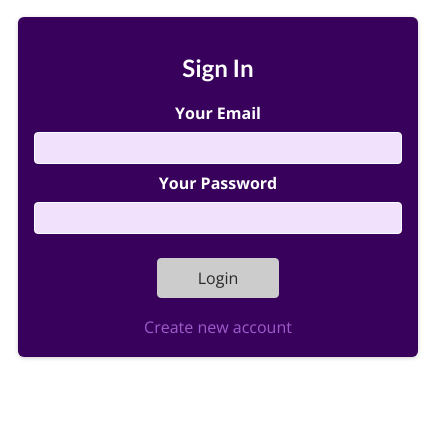
Test: Login page › Sign In form › renders email error if email format is invalid
This screenshot has width=437, height=423.
Type "asfdasfd" into the field named "email-input" at (218, 148), box [34, 132, 402, 164]
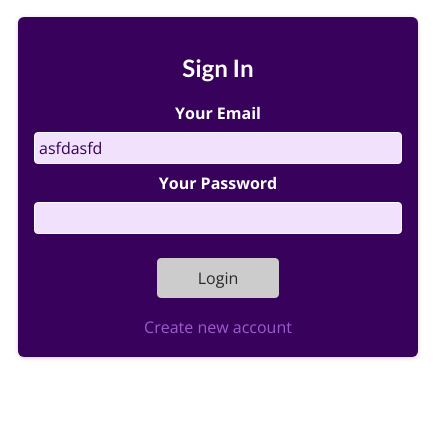
Leave the field named "email-input", box [34, 132, 402, 164]
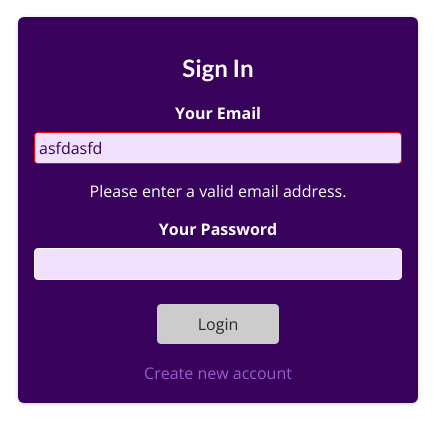
Expected: the text "Please enter a valid email address." is shown, [90, 180, 346, 202]
